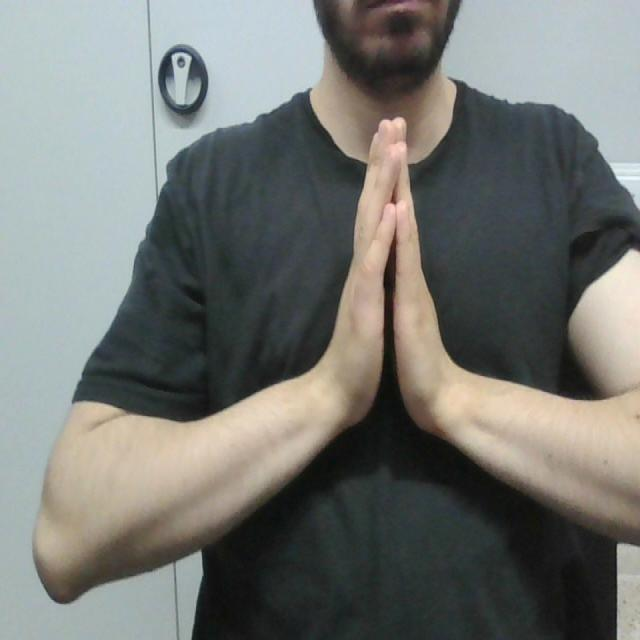Ozur-Dilemek: (332, 114, 459, 466)
